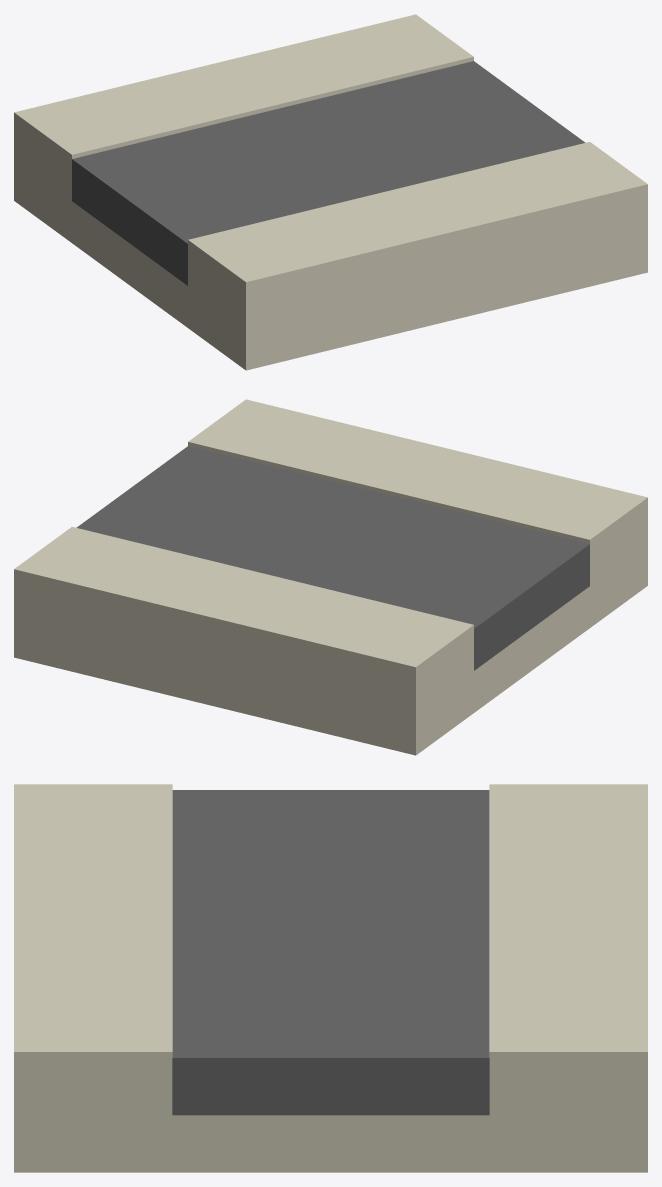
The model's file is tile017.dae.
3 views of the same model, one above another, from view 1: azimuth 30°, elevation 25°; view 2: azimuth 150°, elevation 25°; view 3: azimuth 270°, elevation 25° (orthographic). The views are drawn at different scales.
Visible parts, largest first — view 1: tile017; view 2: tile017; view 3: tile017.
Part boxes in pixels (x1,y1,x2,y2): tile017: [14, 14, 647, 370]; tile017: [14, 399, 647, 755]; tile017: [14, 784, 647, 1172].
Size of the model in its own units: 1 by 0.21 by 1.
